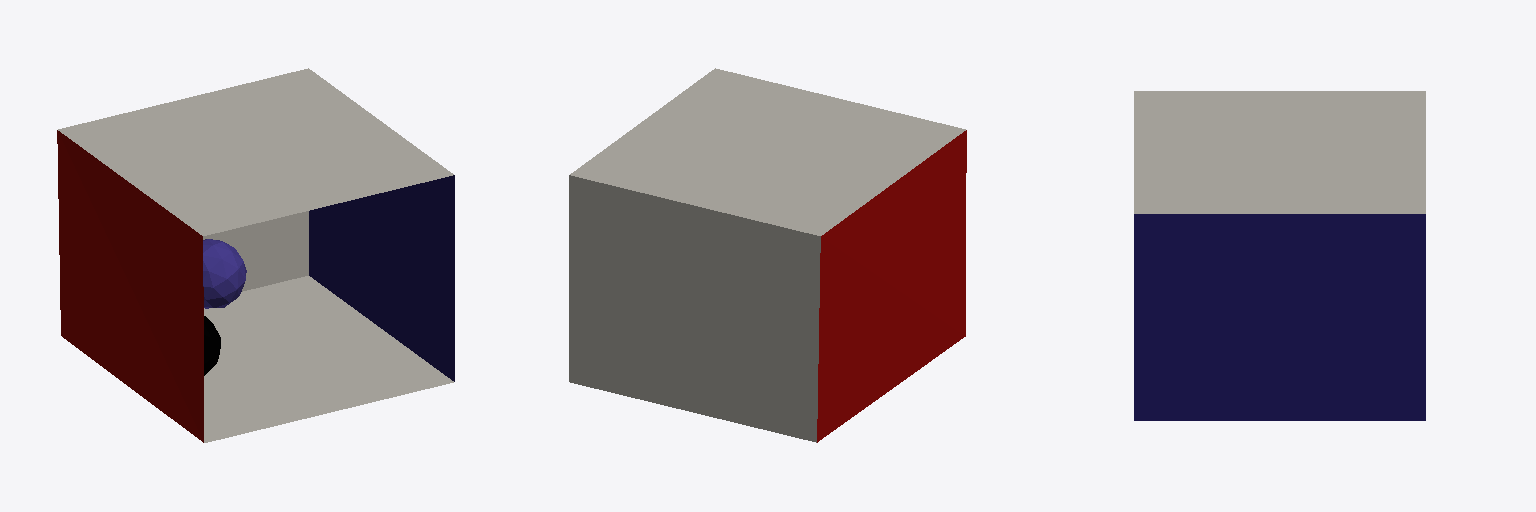
The model's file is CornellBox-Sphere-247.obj.
3 renders of one model, left to right at view 1: azimuth 30°, elevation 25°; view 2: azimuth 150°, elevation 25°; view 3: azimuth 270°, elevation 25°, orthographic.
Parts seen in each view (by area): view 1: ceiling, leftWall, floor, rightWall, backWall, leftSphere, rightSphere; view 2: backWall, ceiling, leftWall; view 3: rightWall, ceiling.
Boxes of the visible parts, box(x1,y1,x2,y2) form: ceiling: box(58, 68, 453, 235); leftWall: box(57, 130, 203, 442); floor: box(204, 276, 453, 442); rightWall: box(309, 175, 454, 381); backWall: box(203, 211, 308, 291); leftSphere: box(203, 239, 246, 308); rightSphere: box(204, 316, 220, 375); backWall: box(569, 175, 820, 442); ceiling: box(570, 68, 965, 235); leftWall: box(817, 130, 966, 442); rightWall: box(1134, 214, 1425, 420); ceiling: box(1134, 91, 1425, 213).
Size of the model in its own units: 2.02 by 1.59 by 2.03.